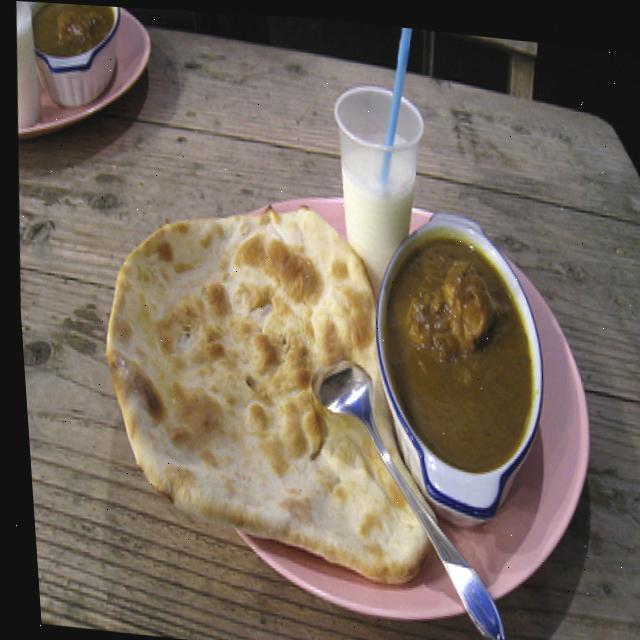牛肉菜式: (351, 195, 561, 514), (16, 1, 130, 113)
